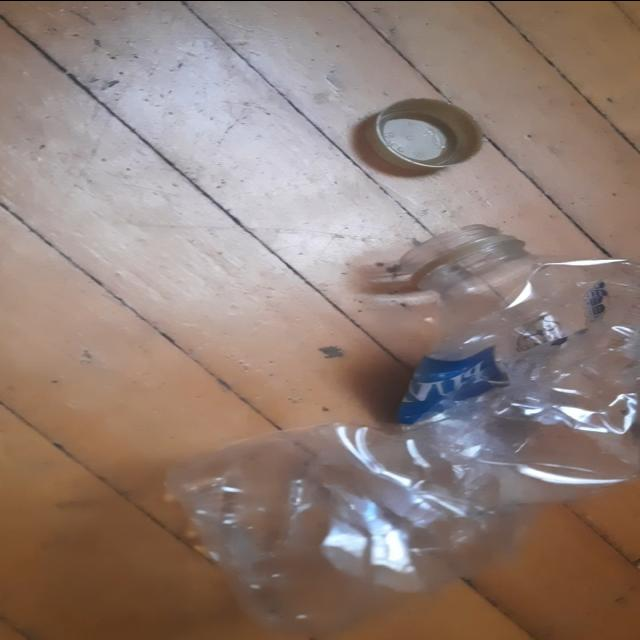Plastic: (161, 235, 637, 634)
